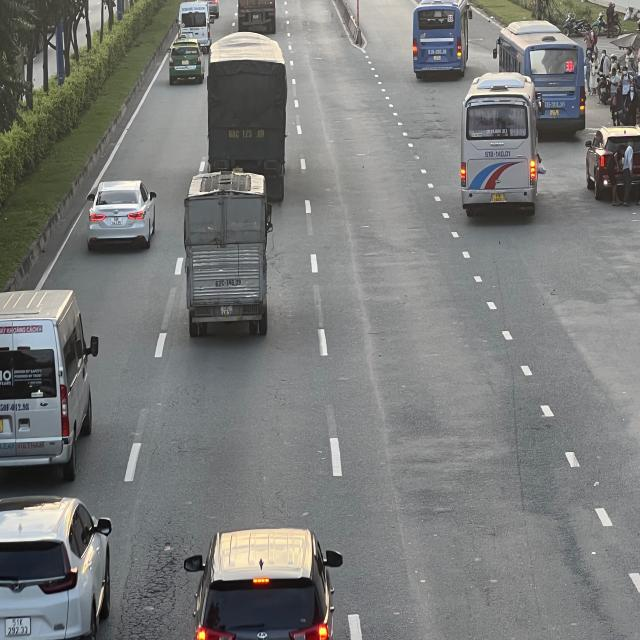car: (190, 529, 344, 639), (0, 494, 111, 640), (89, 180, 160, 252), (168, 38, 204, 86)
coach: (461, 73, 539, 217), (495, 21, 588, 132), (410, 0, 470, 75)
truck: (182, 172, 272, 336), (208, 34, 291, 207)
van: (0, 289, 97, 476), (178, 3, 208, 48)
